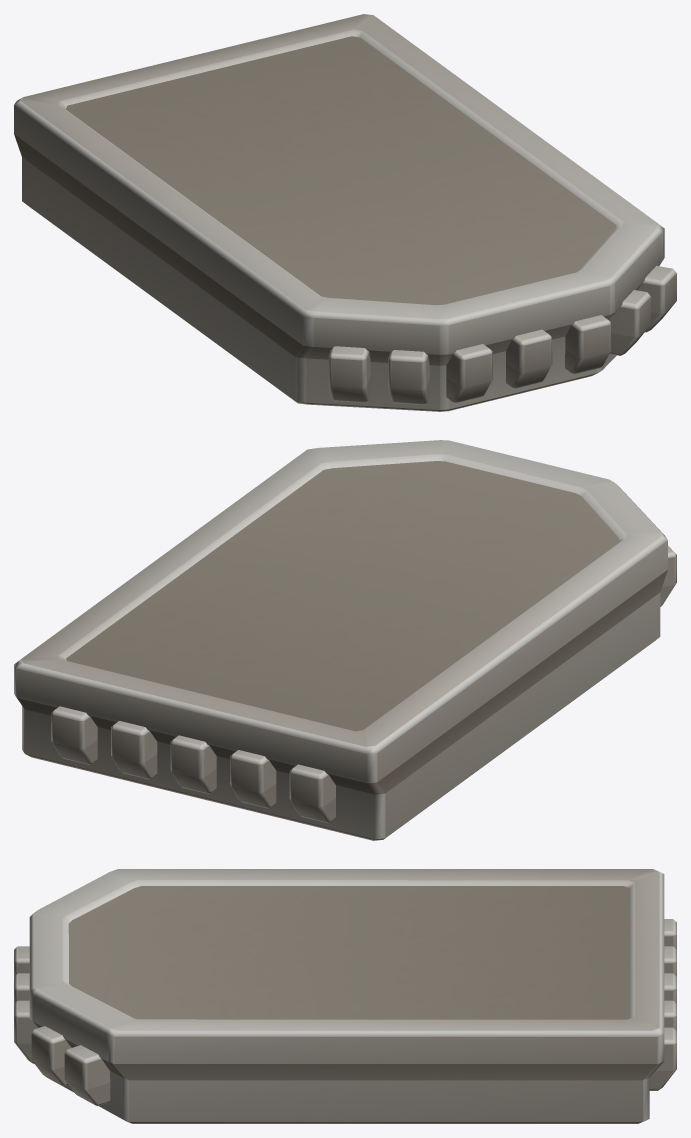
The model's file is appartment_type4_roof_type2_flat_grey.fbx.
3 views of the same model, one above another, from view 1: azimuth 30°, elevation 25°; view 2: azimuth 150°, elevation 25°; view 3: azimuth 270°, elevation 25° (orthographic). The views are drawn at different scales.
Visible parts, largest first — view 1: appartment_type4_roof_type2_flat_grey; view 2: appartment_type4_roof_type2_flat_grey; view 3: appartment_type4_roof_type2_flat_grey.
Boxes of the visible parts, x1=… form: appartment_type4_roof_type2_flat_grey: x1=14, y1=14, x2=676, y2=411; appartment_type4_roof_type2_flat_grey: x1=14, y1=440, x2=676, y2=840; appartment_type4_roof_type2_flat_grey: x1=14, y1=869, x2=676, y2=1123.
Size of the model in its own units: 610 by 160 by 1032.
